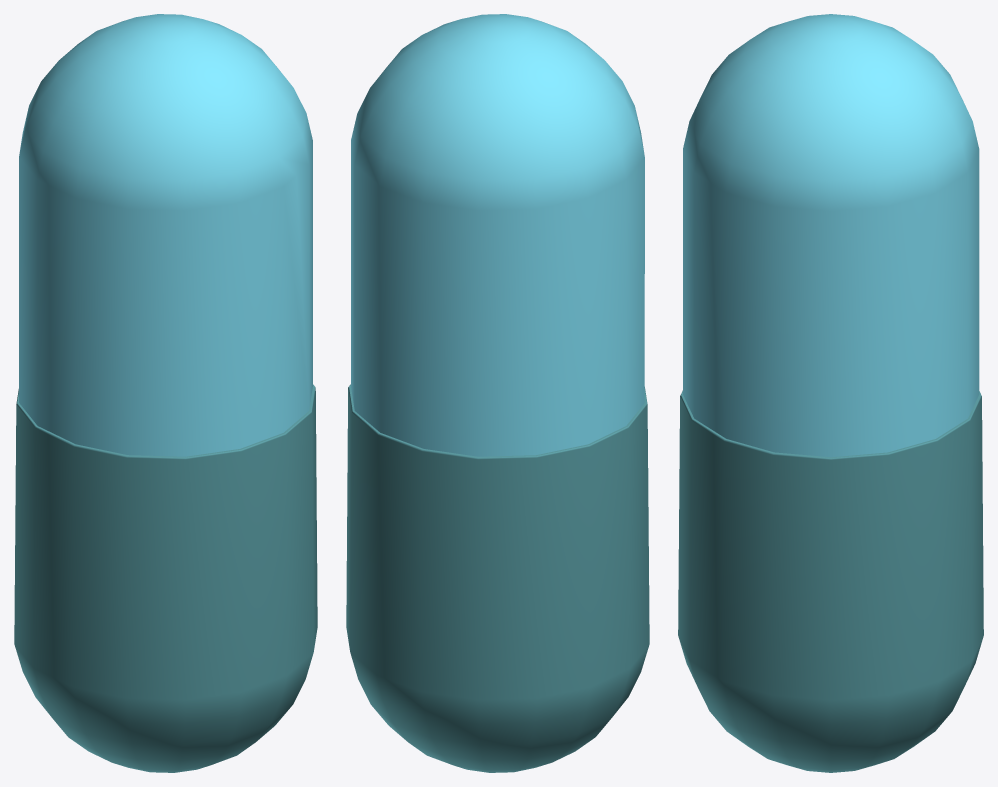
File: model-WaterPill.glb
3 renders of one model, left to right at view 1: azimuth 30°, elevation 25°; view 2: azimuth 150°, elevation 25°; view 3: azimuth 270°, elevation 25°, orthographic.
Parts seen in each view (by area): view 1: polySurface3_2.001, polySurface3_1.001; view 2: polySurface3_2.001, polySurface3_1.001; view 3: polySurface3_2.001, polySurface3_1.001.
Boxes of the visible parts, bbox=[...] form: polySurface3_2.001: bbox=[19, 14, 312, 456]; polySurface3_1.001: bbox=[14, 384, 317, 772]; polySurface3_2.001: bbox=[351, 14, 644, 456]; polySurface3_1.001: bbox=[346, 384, 649, 772]; polySurface3_2.001: bbox=[683, 14, 979, 457]; polySurface3_1.001: bbox=[678, 390, 983, 772].
Bounding box in the file's own units: 0.0641 × 0.169 × 0.0641.
